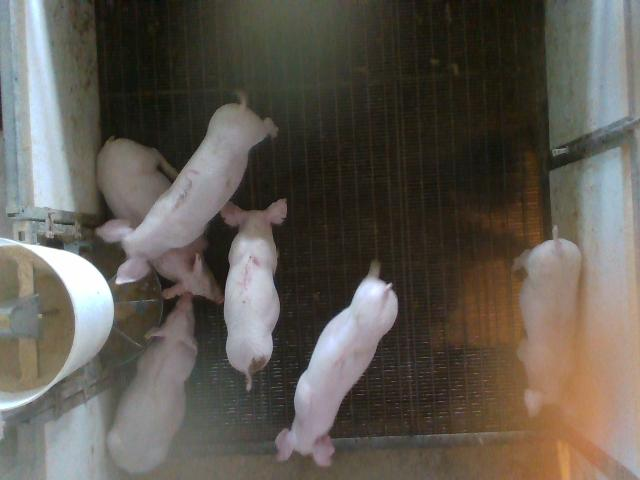pig-3: (98, 99, 278, 283)
pig-4: (514, 226, 581, 416)
pig-5: (221, 199, 288, 391)
